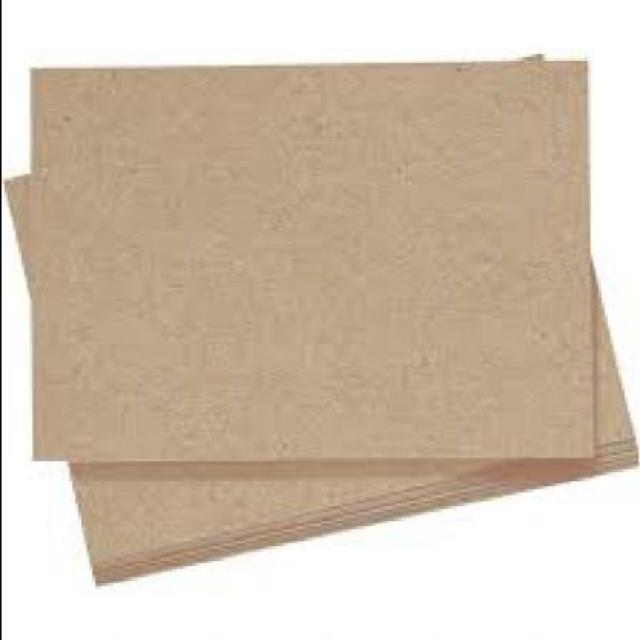CARDBOARD: (1, 55, 637, 596), (26, 63, 592, 466)
